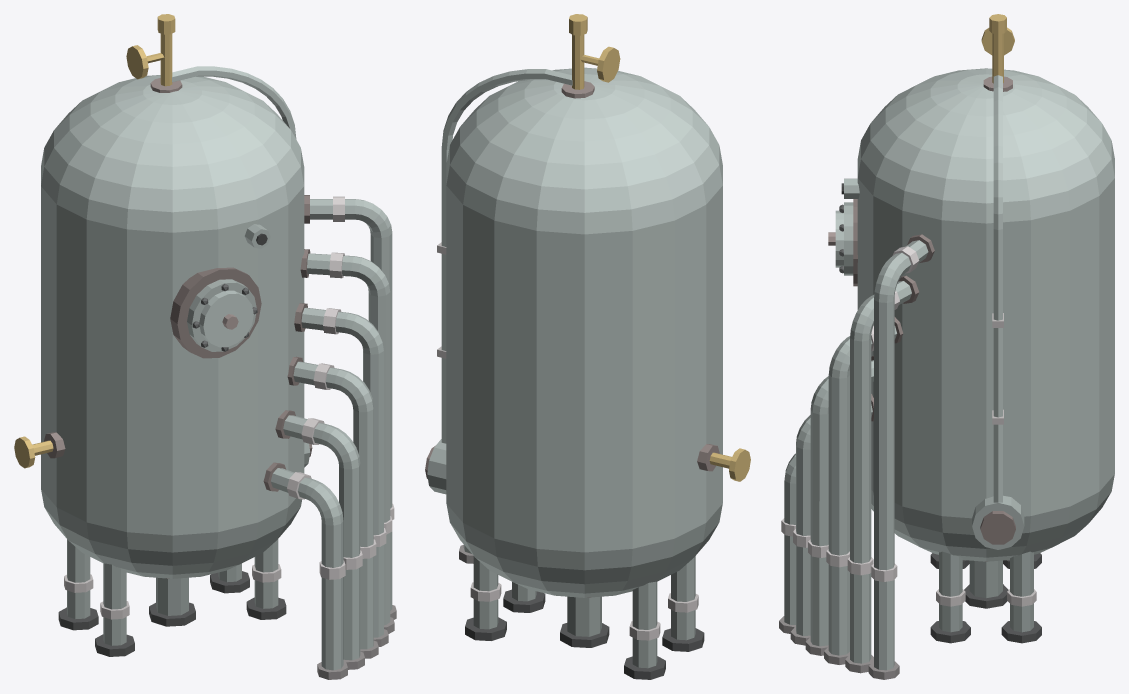
Rendered from pressurized_tank.glb.
The picture shows the model from 3 angles, left to right: view 1: azimuth 30°, elevation 25°; view 2: azimuth 150°, elevation 25°; view 3: azimuth 270°, elevation 25°; orthographic projection. The views are drawn at different scales.
Parts seen in each view (by area): view 1: pressurized_tank; view 2: pressurized_tank; view 3: pressurized_tank.
Part boxes in pixels (<box>): pressurized_tank: <box>14,14,396,679</box>; pressurized_tank: <box>425,14,750,679</box>; pressurized_tank: <box>779,14,1114,679</box>.
Bounding box in the file's own units: 3.05 × 5.4 × 2.83.
